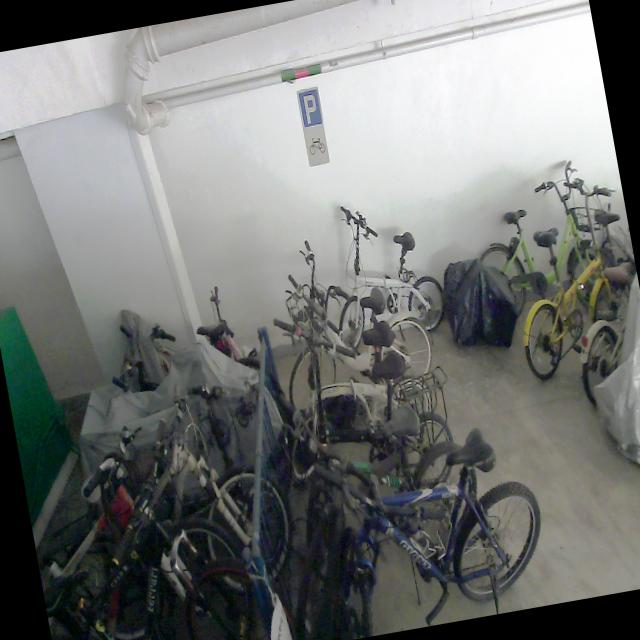bike: (38, 372, 300, 632), (265, 416, 554, 640), (17, 406, 264, 640), (281, 372, 489, 567), (262, 219, 438, 408), (266, 292, 441, 480), (495, 168, 640, 381), (461, 153, 623, 341), (318, 189, 452, 352)
